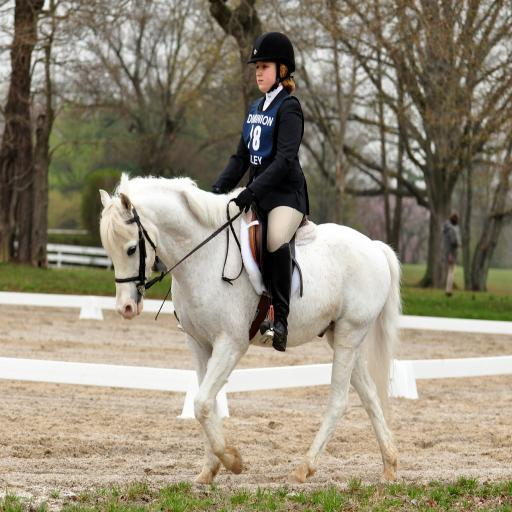Horse: (101, 172, 403, 484)
